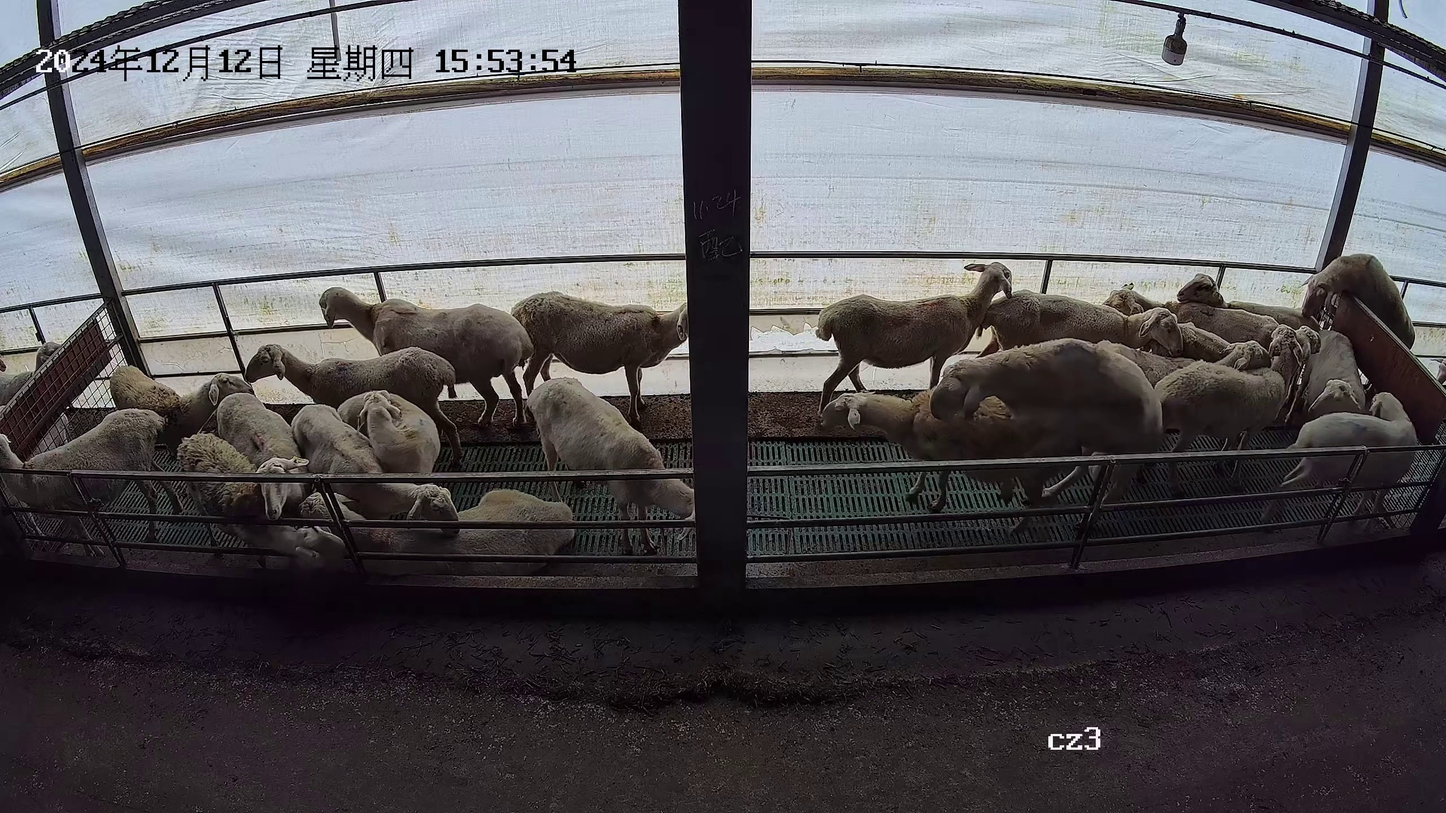Smounting: (813, 334, 1164, 536)
mounted: (818, 381, 1098, 533)
